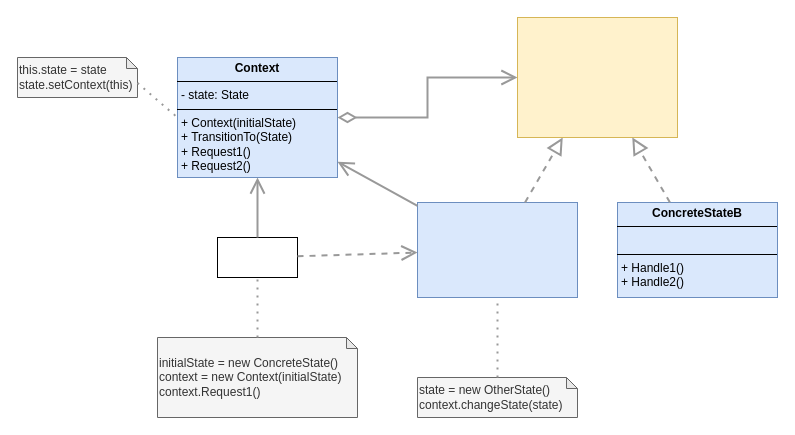
The diagram is 795 pixels wide and 435 high, and some of its shapes have lost their labels. The shapes that lost their labels are listed below. From the top down, each one's centre as x and y in pixels, then its label:
(597,77): <<abstract>> State + context: Context + Handle1() + Handle2()
(257,257): Client
(497,250): ConcreteStateA + Handle1() + Handle2()
